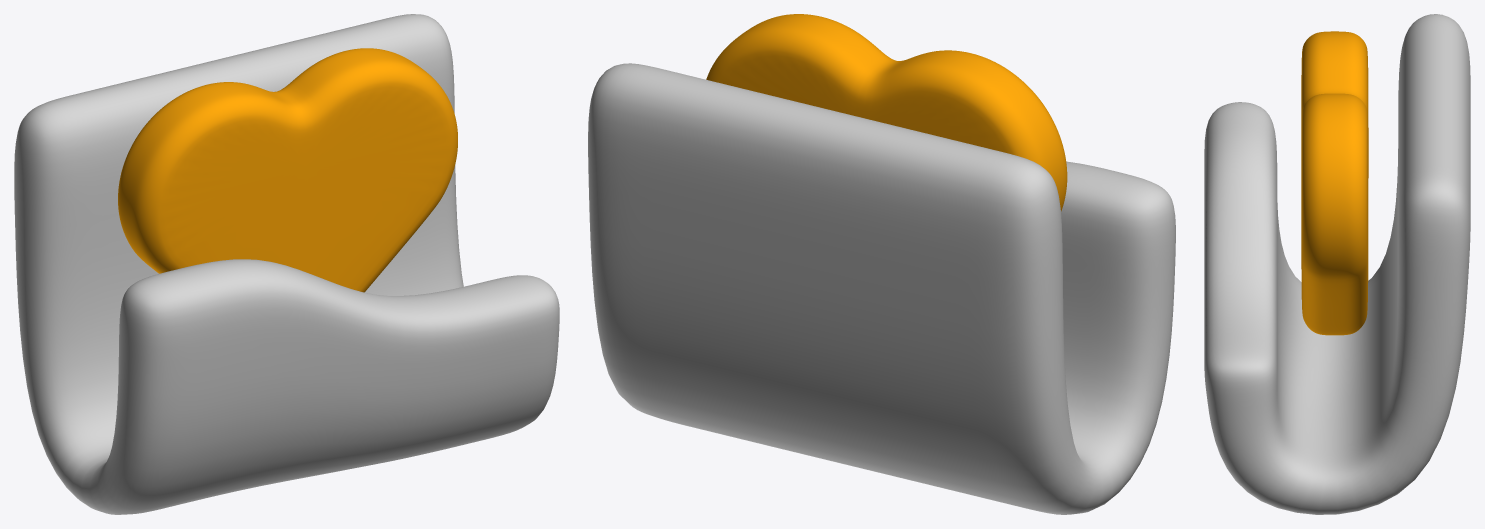
File: favorite-animated-3d-icon-1290834038367.glb
3 views of the same model, side by side, from view 1: azimuth 30°, elevation 25°; view 2: azimuth 150°, elevation 25°; view 3: azimuth 270°, elevation 25° (orthographic). The views are drawn at different scales.
Visible parts, largest first — view 1: Folder, Love; view 2: Folder, Love; view 3: Folder, Love.
Part boxes in pixels (x1,y1,x2,y2): Folder: (14,14,559,514); Love: (118,48,457,292); Folder: (588,63,1175,514); Love: (706,14,1067,211); Folder: (1204,14,1470,514); Love: (1301,31,1368,335).
Size of the model in its own units: 1.98 by 1.72 by 1.16.
